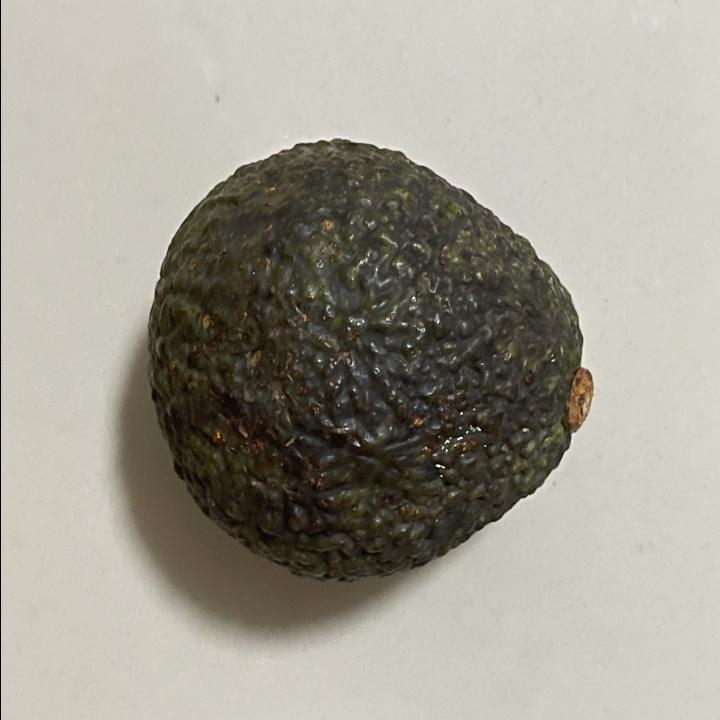Level1: (129, 121, 606, 592)
